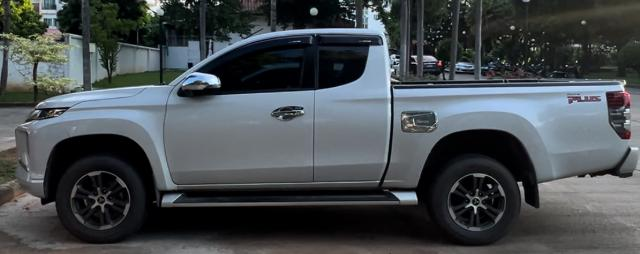pickup-truck: (13, 26, 640, 247)
